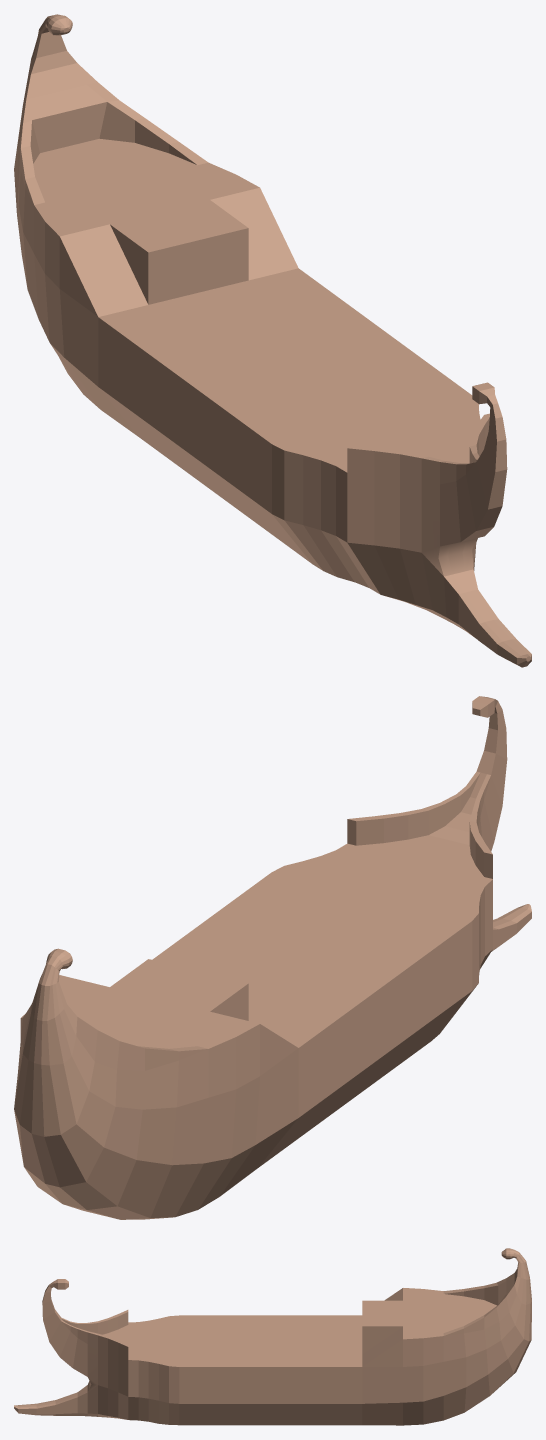
File: ShipBlockout_V2.fbx
3 views of the same model, one above another, from view 1: azimuth 30°, elevation 25°; view 2: azimuth 150°, elevation 25°; view 3: azimuth 270°, elevation 25° (orthographic). The views are drawn at different scales.
Visible parts, largest first — view 1: MainDeck; view 2: MainDeck; view 3: MainDeck.
Boxes of the visible parts, left/top/right/bottom form: MainDeck: left=14, top=14, right=531, bottom=667; MainDeck: left=14, top=696, right=531, bottom=1219; MainDeck: left=14, top=1248, right=531, bottom=1425.
Size of the model in its own units: 1200 by 1799 by 5094.
